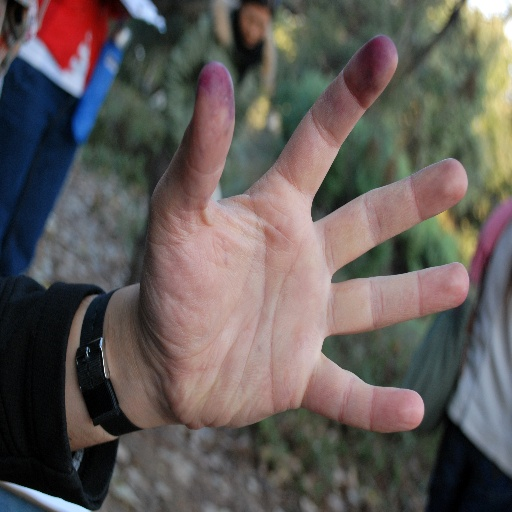hand: (138, 34, 469, 432)
